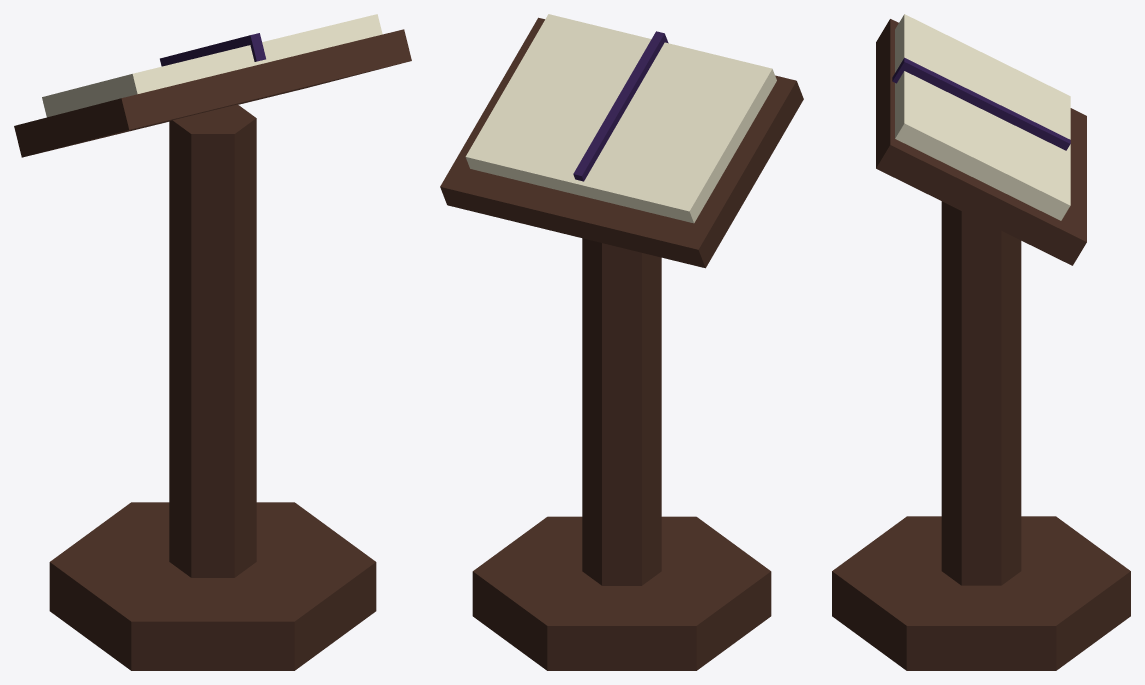
Rendered from spellbook_lectern.glb.
3 views of the same model, side by side, from view 1: azimuth 30°, elevation 25°; view 2: azimuth 150°, elevation 25°; view 3: azimuth 270°, elevation 25° (orthographic). The views are drawn at different scales.
Visible parts, largest first — view 1: spellbook_lectern; view 2: spellbook_lectern; view 3: spellbook_lectern.
Boxes of the visible parts, x1,y1,x2,y2 form: spellbook_lectern: [14, 14, 411, 670]; spellbook_lectern: [440, 14, 803, 670]; spellbook_lectern: [832, 14, 1130, 670].
Size of the model in its own units: 0.6 by 1.23 by 0.6.
